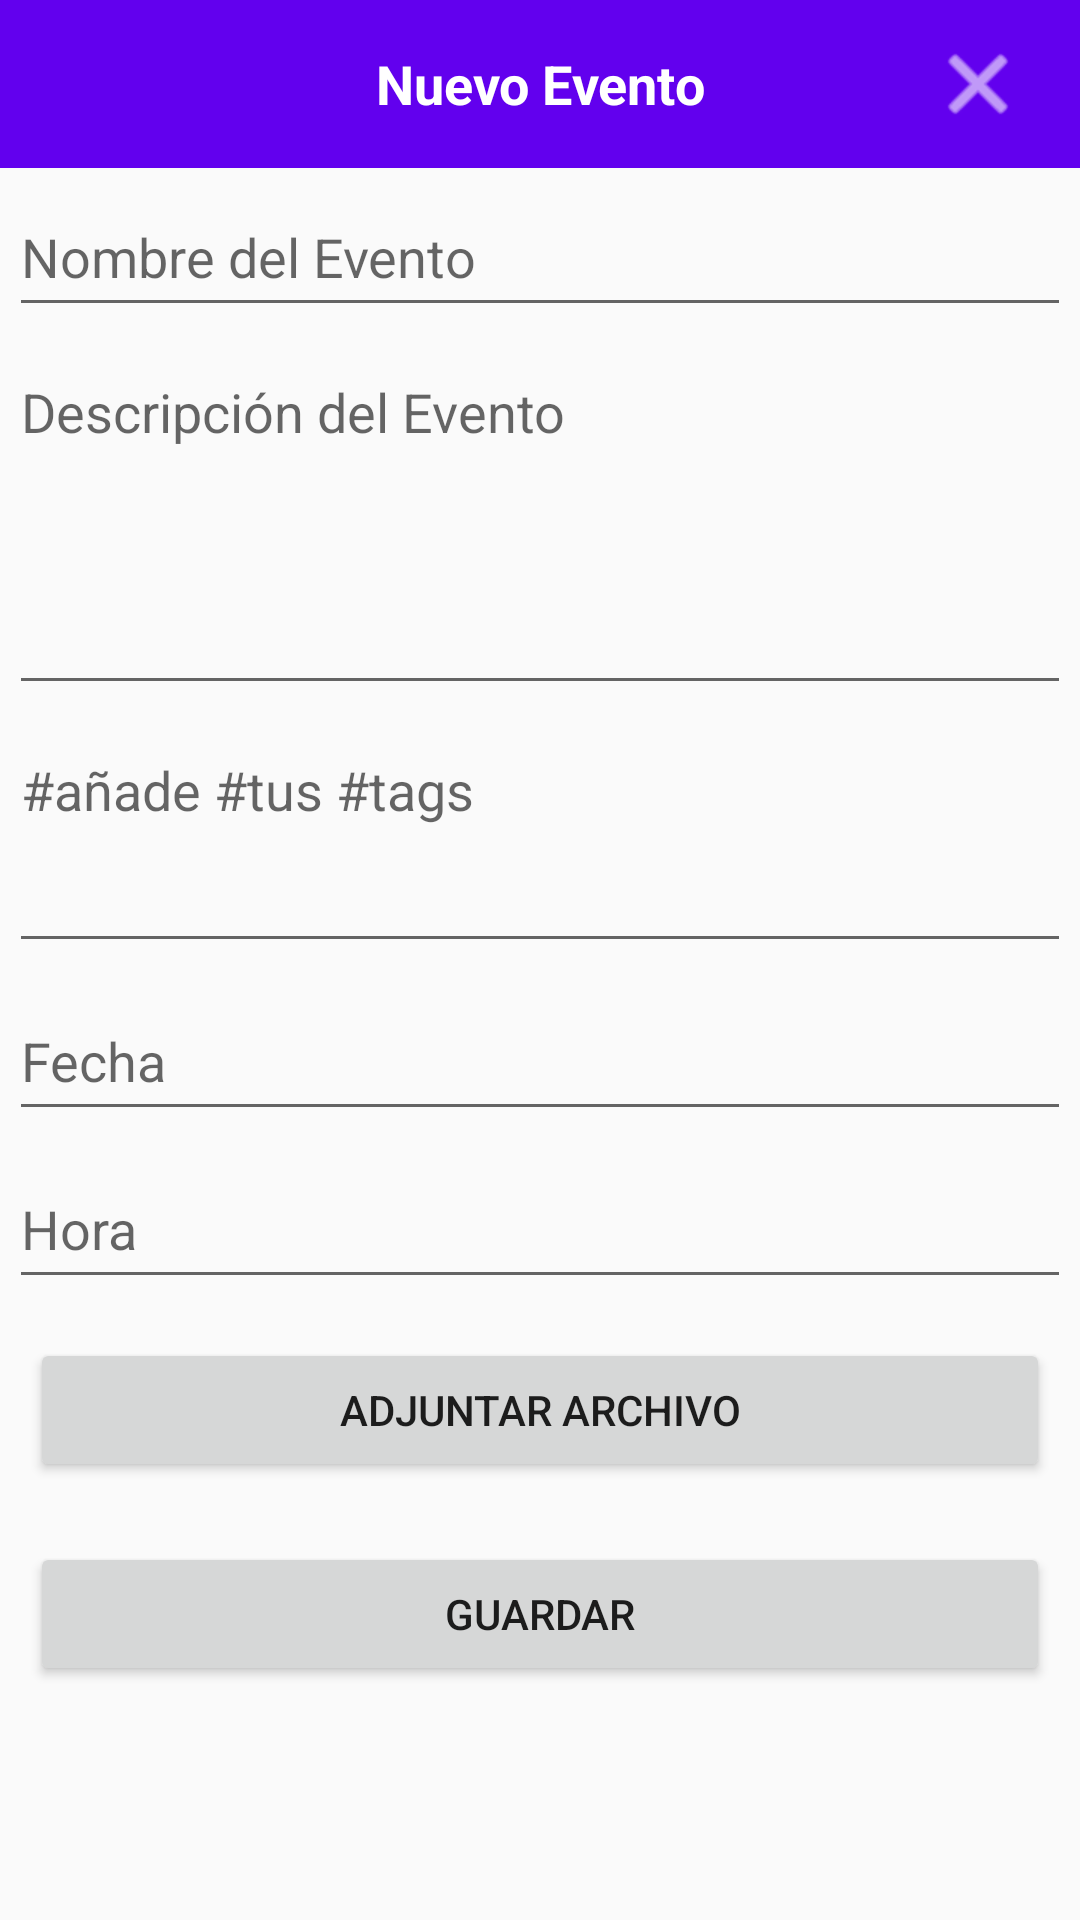

Icons on this 1080px x 1920px Android screen, each with its box as (x1, y1, x2, y2):
close clear cancel: (948, 54, 1008, 114)
